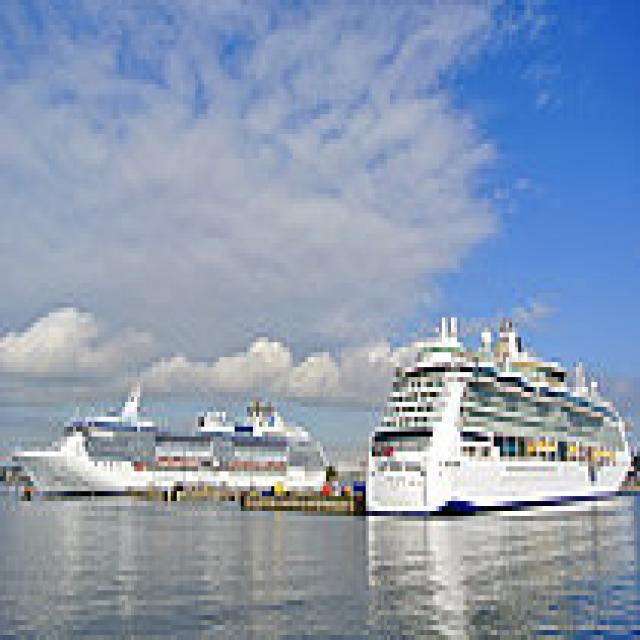Ship: (370, 308, 632, 532), (14, 373, 349, 522)
